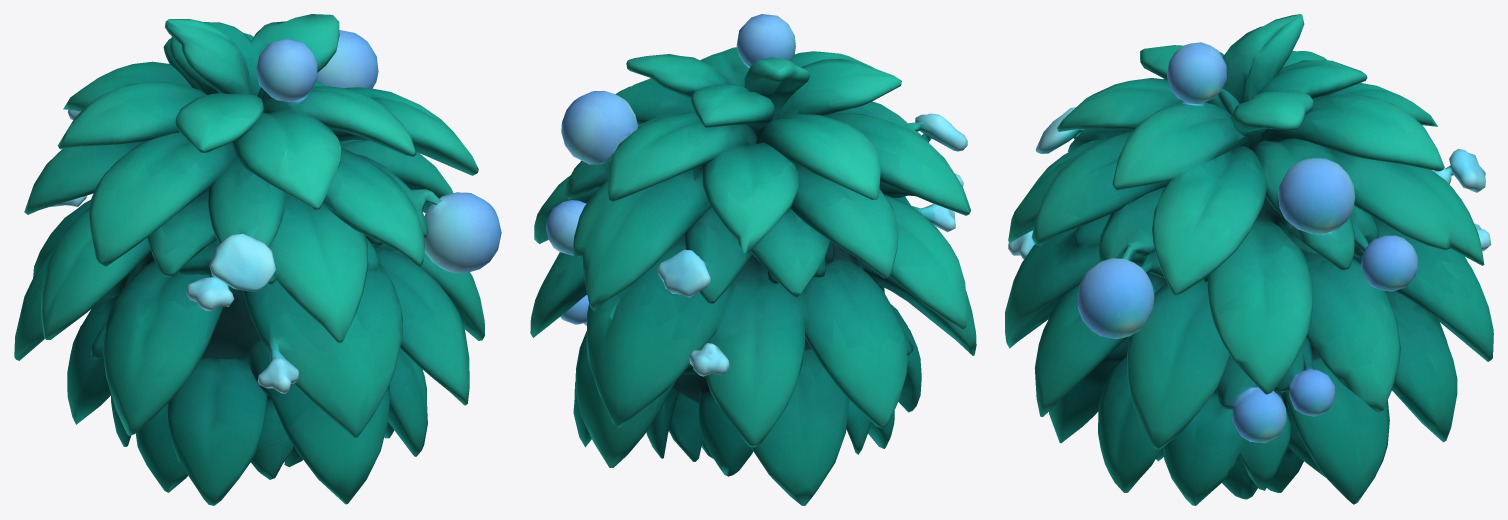
File: bush_berry_teal.glb
3 views of the same model, side by side, from view 1: azimuth 30°, elevation 25°; view 2: azimuth 150°, elevation 25°; view 3: azimuth 270°, elevation 25° (orthographic). The views are drawn at different scales.
Visible parts, largest first — view 1: tripo_node_92e0043e-1c51-4602-bffd-50bc3decaf0d; view 2: tripo_node_92e0043e-1c51-4602-bffd-50bc3decaf0d; view 3: tripo_node_92e0043e-1c51-4602-bffd-50bc3decaf0d.
Part boxes in pixels (box(x1,y1,x2,y2)): tripo_node_92e0043e-1c51-4602-bffd-50bc3decaf0d: box(14, 14, 501, 505); tripo_node_92e0043e-1c51-4602-bffd-50bc3decaf0d: box(530, 14, 976, 505); tripo_node_92e0043e-1c51-4602-bffd-50bc3decaf0d: box(1005, 14, 1493, 505).
Size of the model in its own units: 1 by 1 by 1.
1 material, 1 textured.
